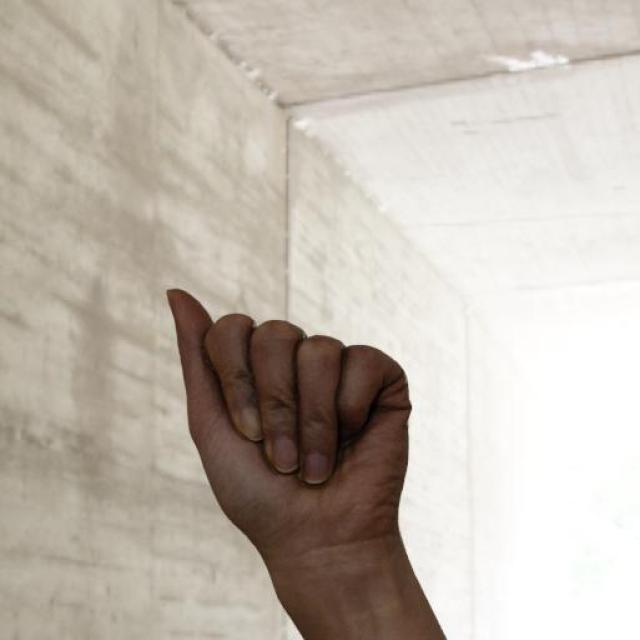A: (165, 287, 419, 574)
